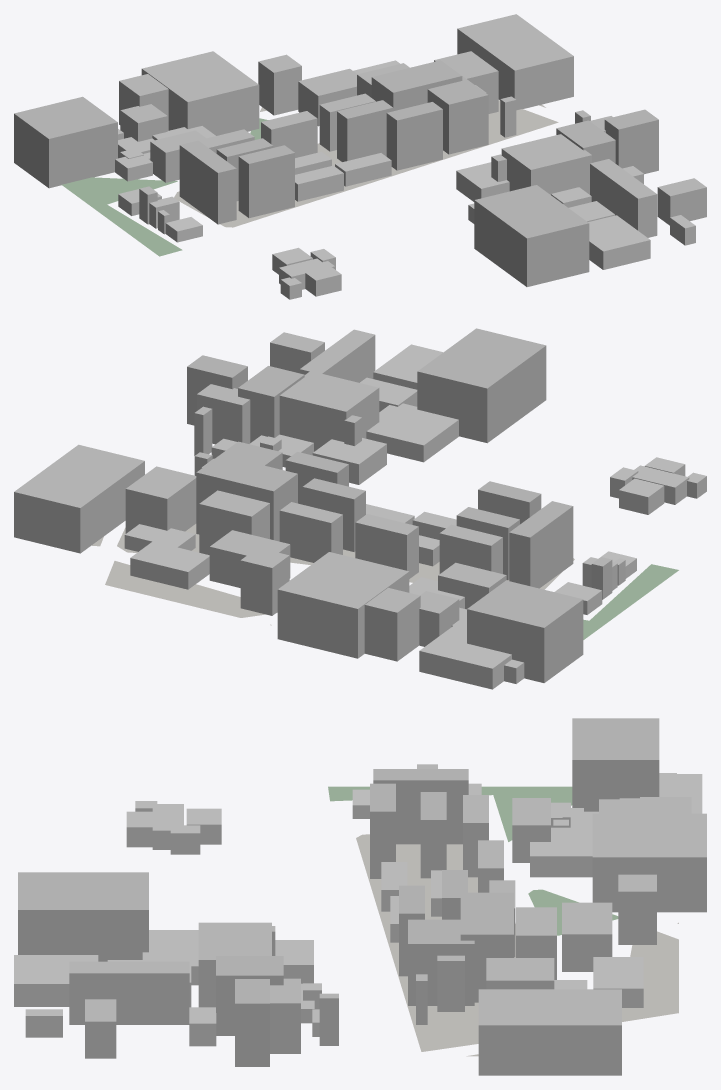
File: 124_112_mid.glb
3 views of the same model, one above another, from view 1: azimuth 30°, elevation 25°; view 2: azimuth 150°, elevation 25°; view 3: azimuth 270°, elevation 25° (orthographic). The views are drawn at different scales.
Size of the model in its own units: 550 by 59.97 by 544.
